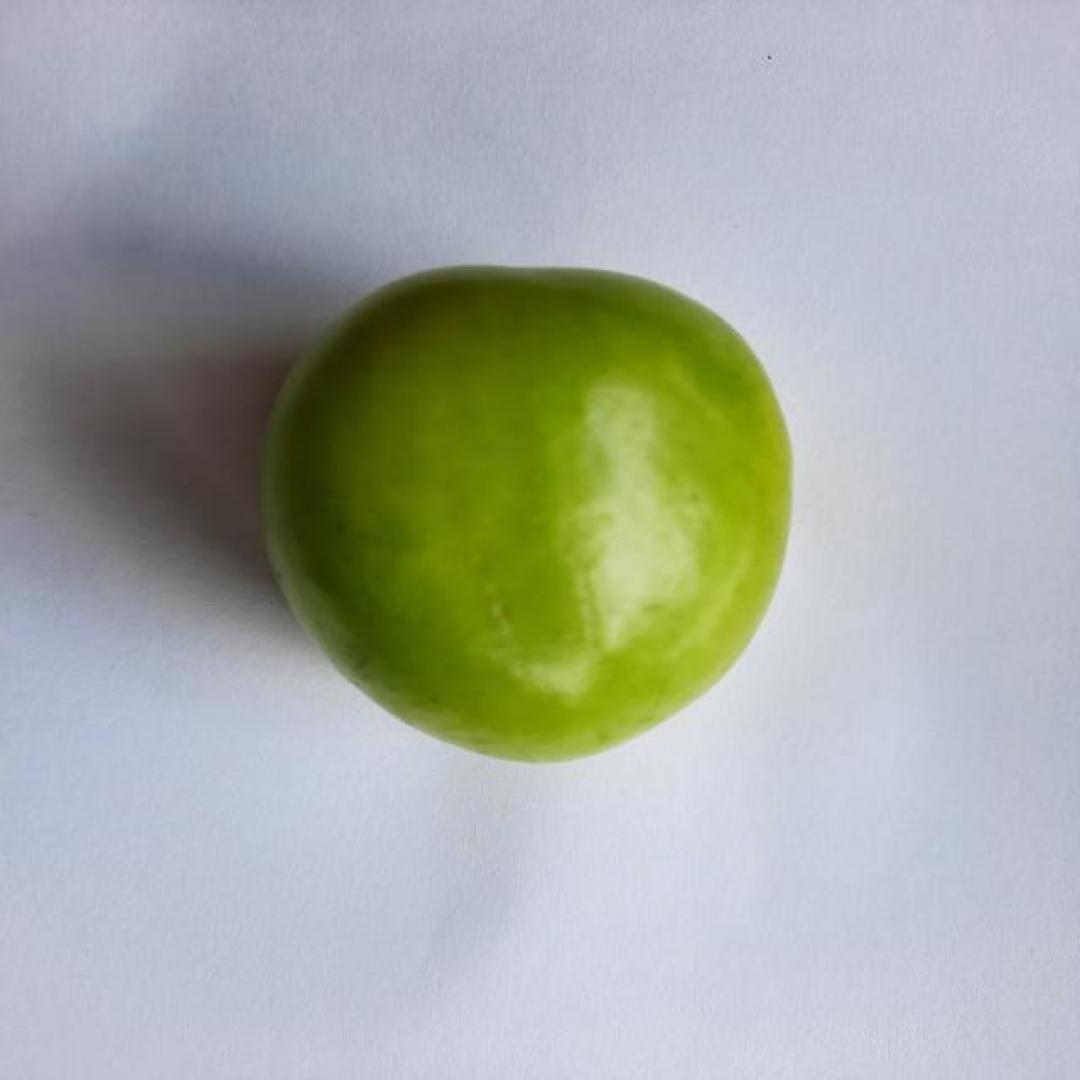mentah: (262, 262, 798, 768)
